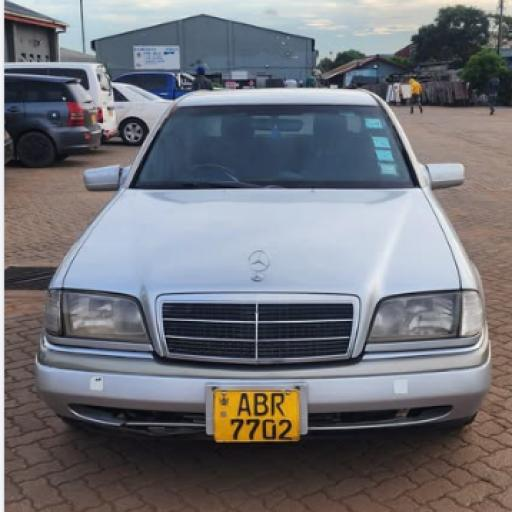number-plates: (216, 388, 296, 444)
